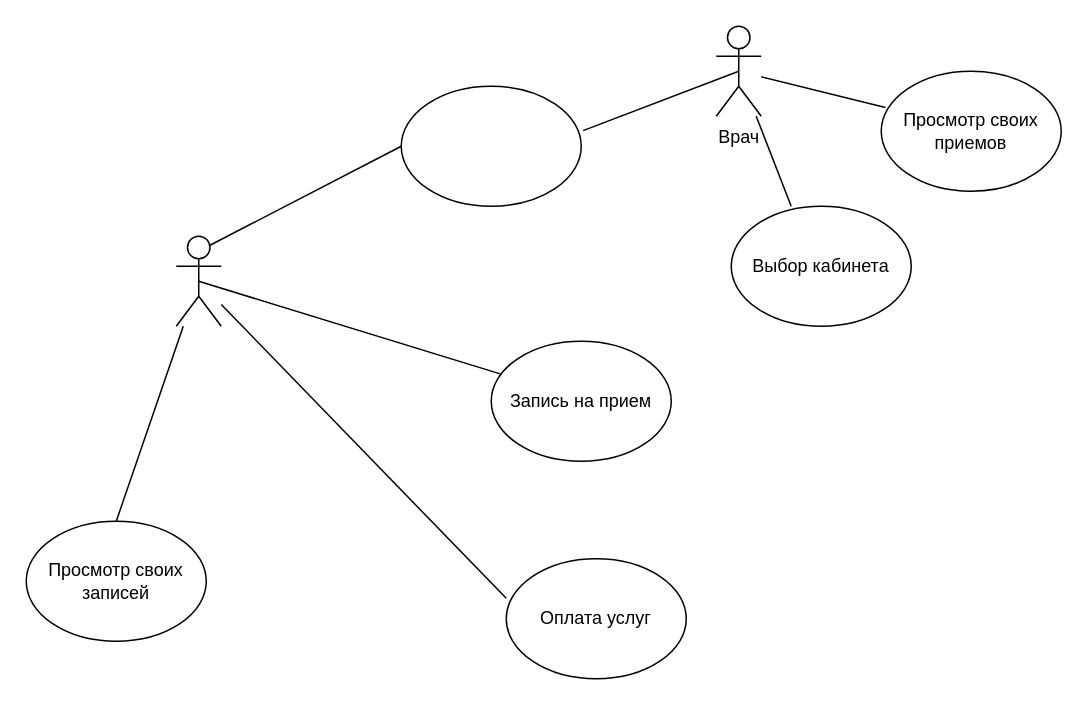
The diagram is 1088 pixels wide and 705 high, and some of its shapes have lost their labels. The shapes that lost their labels are listed below. From the top down, each one's box as (x1, y1, x2, y2) in pixels, then its label:
(400, 85, 581, 206): Прием
(175, 235, 221, 326): Пациент
